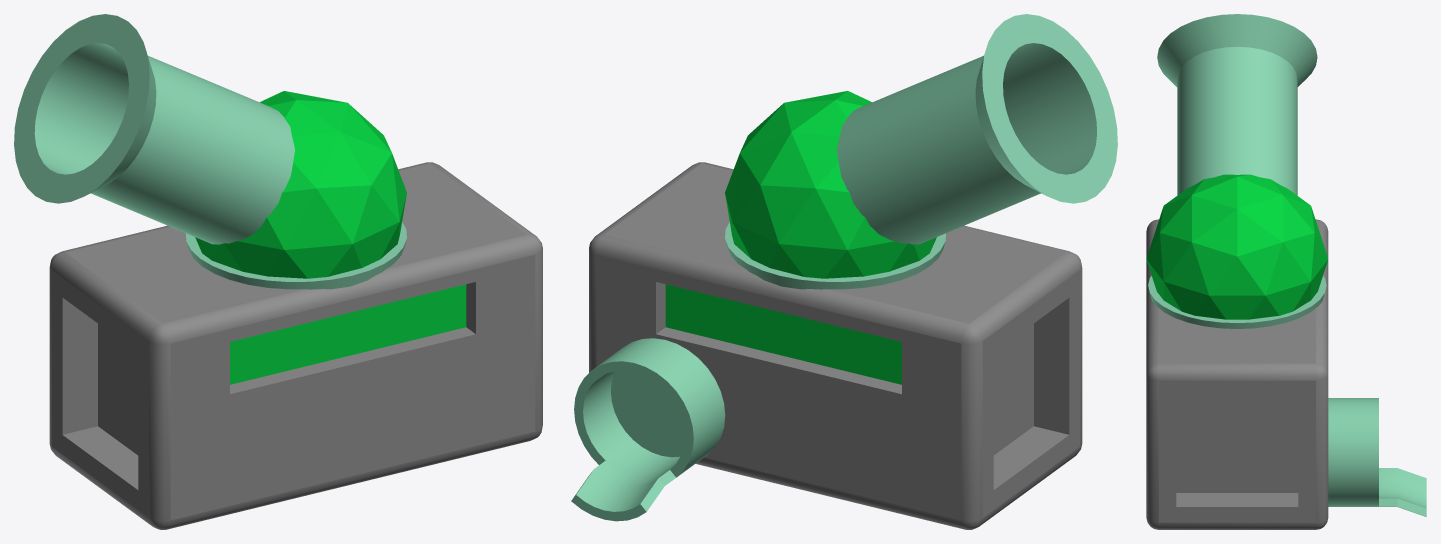
File: Ball Cannon.fbx
3 renders of one model, left to right at view 1: azimuth 30°, elevation 25°; view 2: azimuth 150°, elevation 25°; view 3: azimuth 270°, elevation 25°, orthographic. The views are drawn at different scales.
Visible parts, largest first — view 1: Cube.001; view 2: Cube.001; view 3: Cube.001.
Part boxes in pixels (x1,y1,x2,y2): Cube.001: (14, 14, 542, 529); Cube.001: (571, 14, 1117, 529); Cube.001: (1146, 14, 1426, 529).
Bounding box in the file's own units: 233 × 235 × 154.
